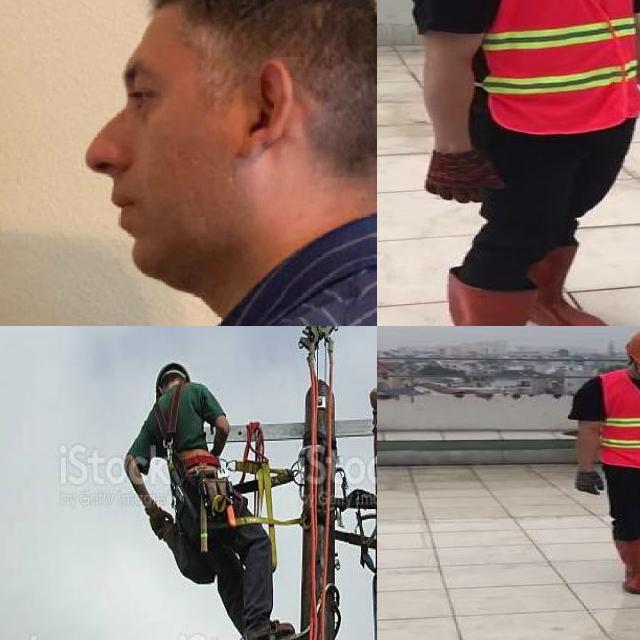Harness: (233, 422, 301, 568), (153, 383, 188, 508)
No_Ear-Protection: (236, 54, 292, 160)
No_Glasses: (98, 52, 194, 126)
boots: (447, 269, 593, 326), (527, 248, 609, 326), (607, 536, 640, 594)
hand_glove: (422, 149, 504, 203), (574, 472, 604, 493)
head_helmet: (620, 326, 640, 371)
person: (396, 0, 640, 326), (564, 326, 640, 597)
vest: (473, 0, 640, 134), (596, 370, 640, 468)
